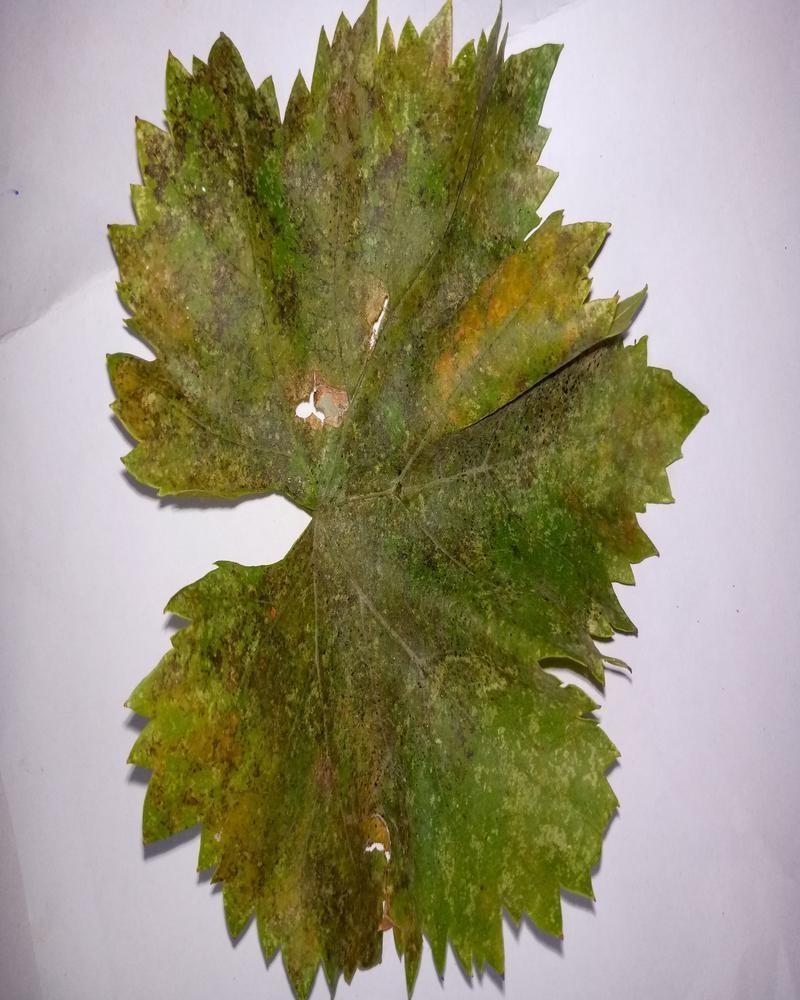Powdery-Mildew: (269, 26, 491, 239), (280, 635, 438, 910), (347, 504, 545, 721), (432, 219, 623, 420), (444, 381, 665, 542), (117, 128, 303, 318), (143, 589, 263, 839), (207, 325, 378, 473), (359, 216, 486, 331)
